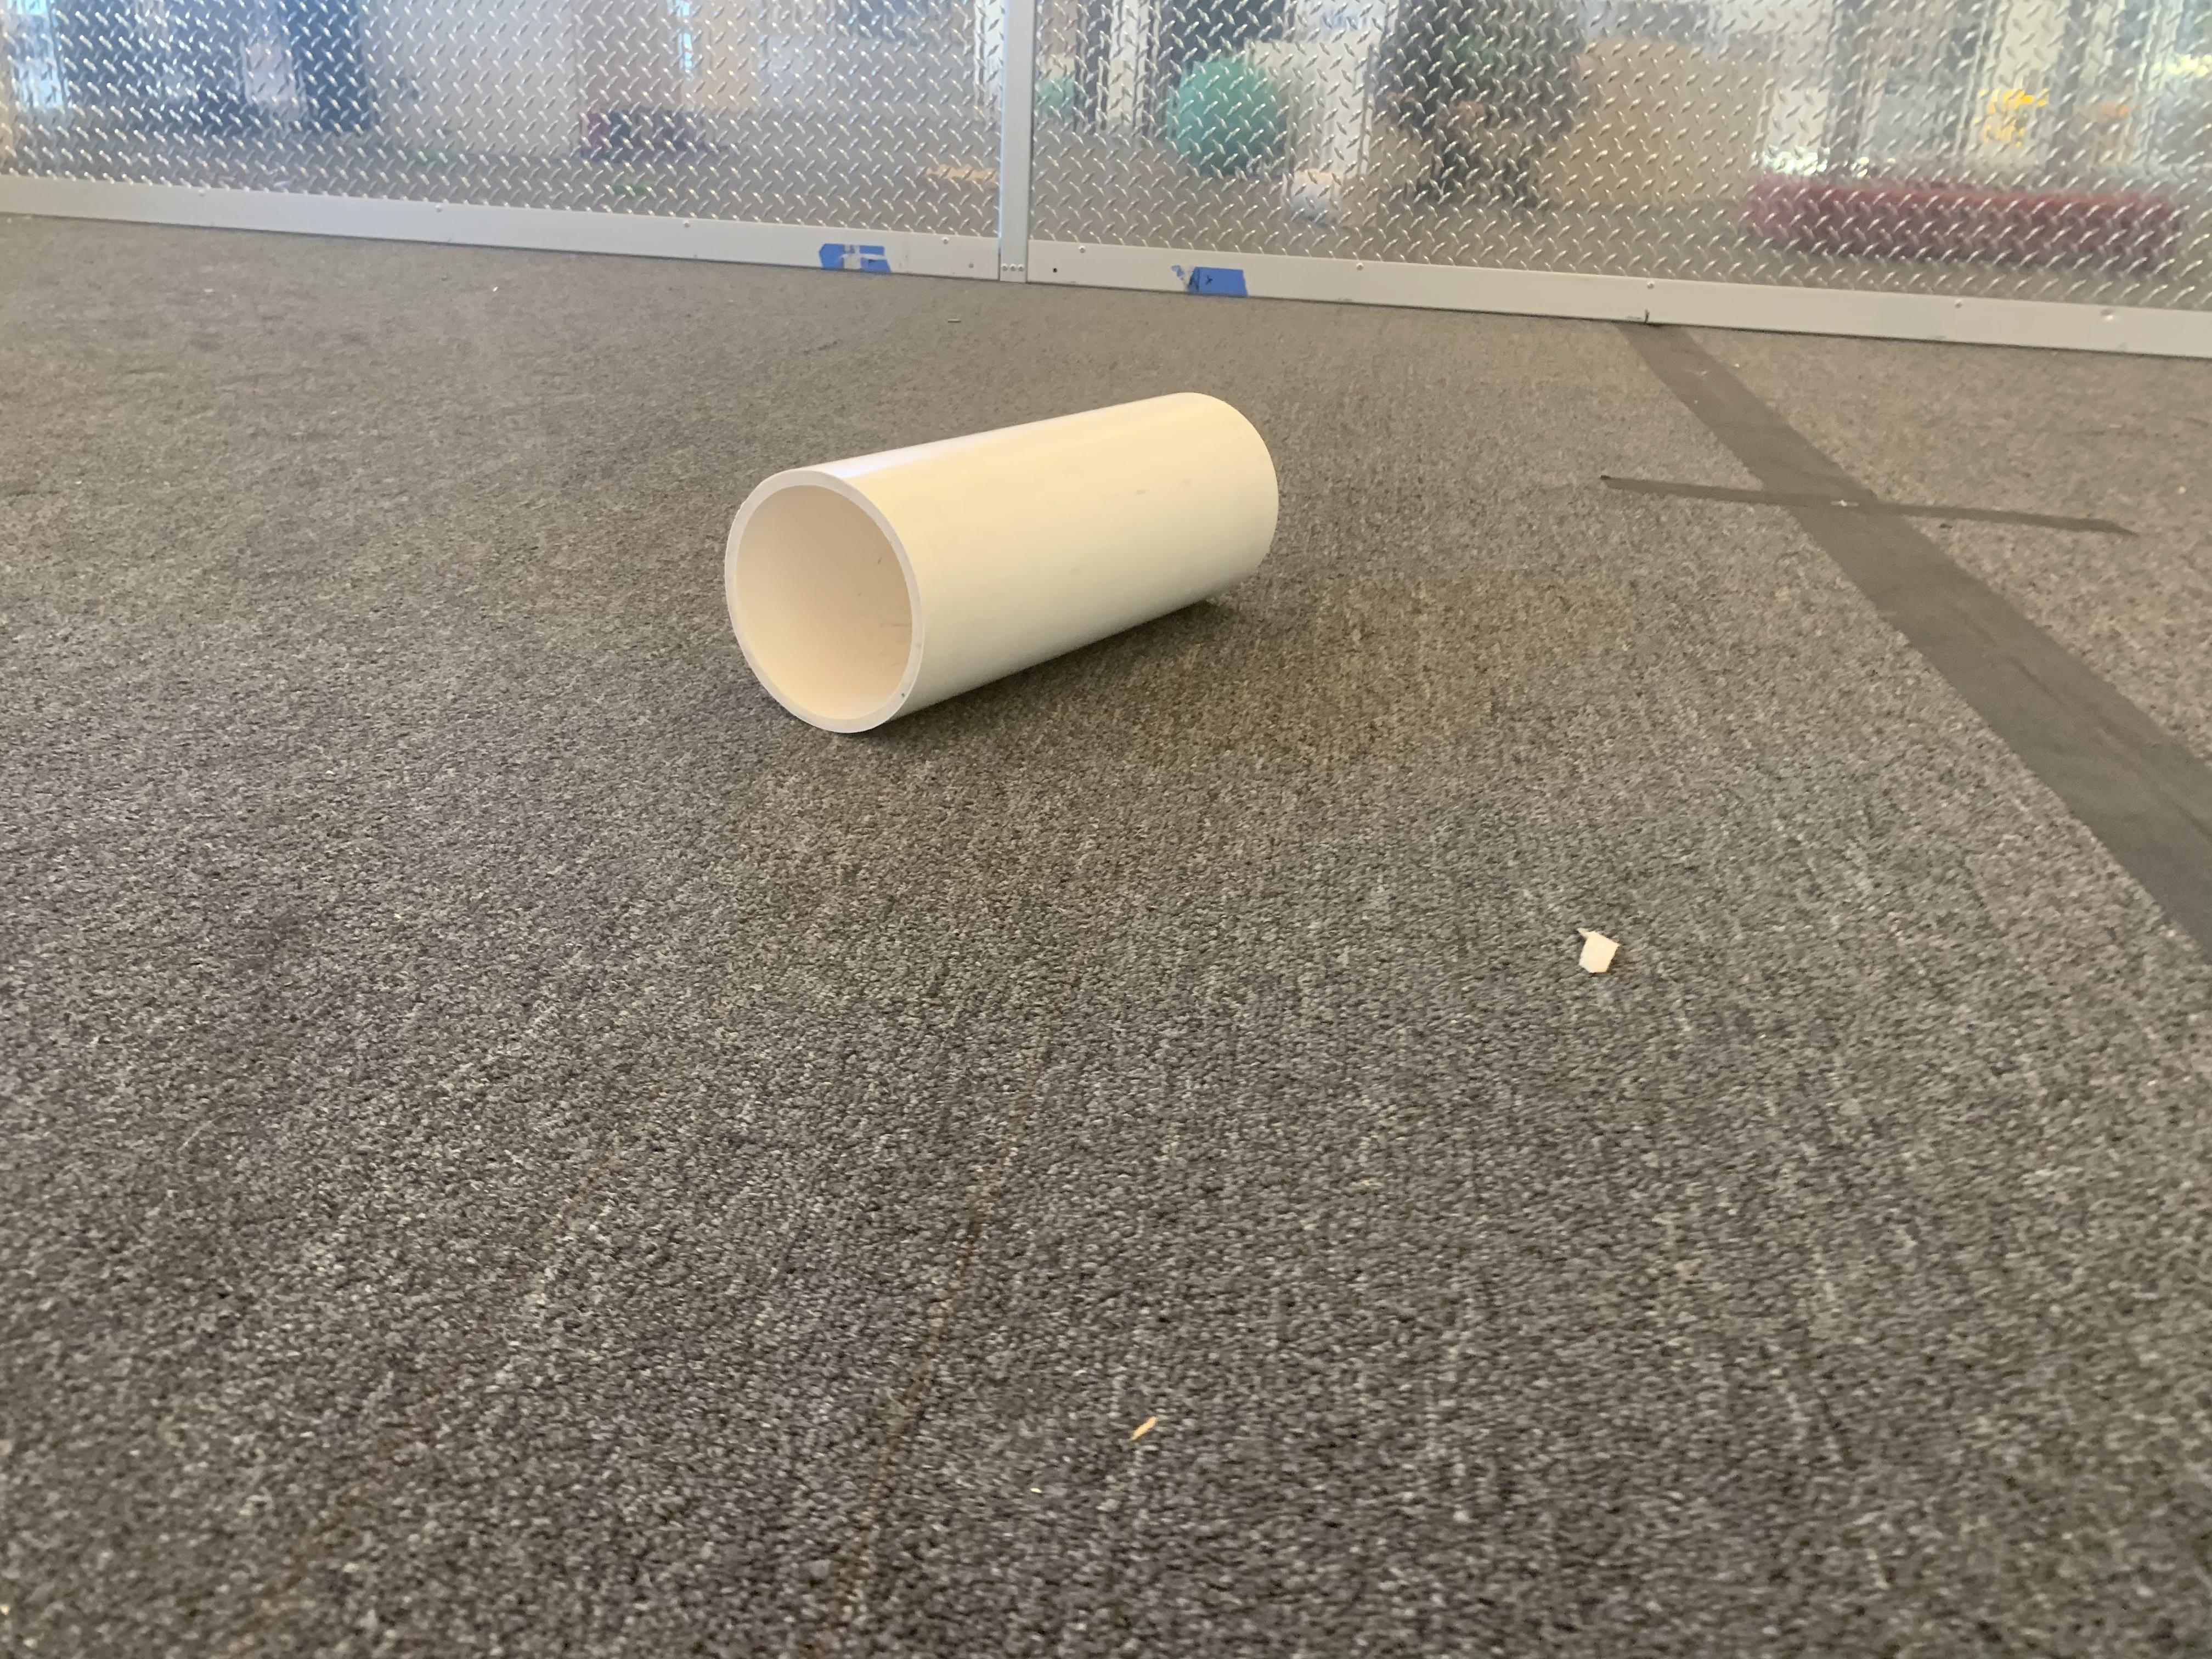coral: (718, 387, 1282, 737)
